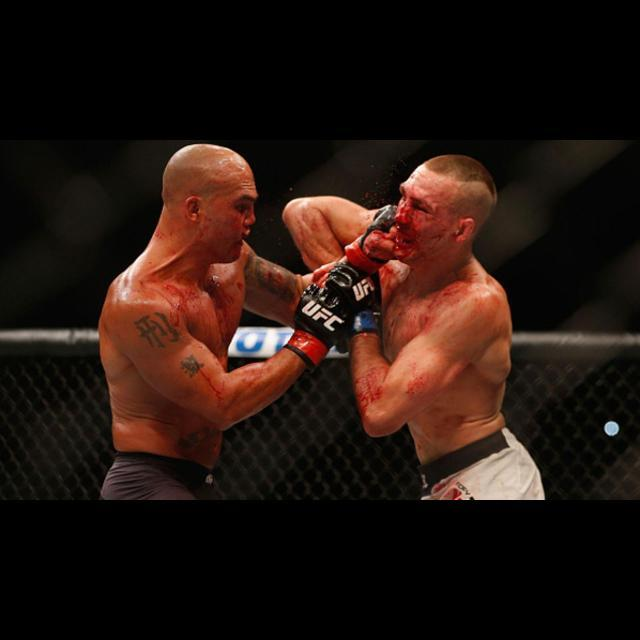blood: (157, 230, 310, 429), (350, 179, 476, 420), (283, 198, 340, 270)
